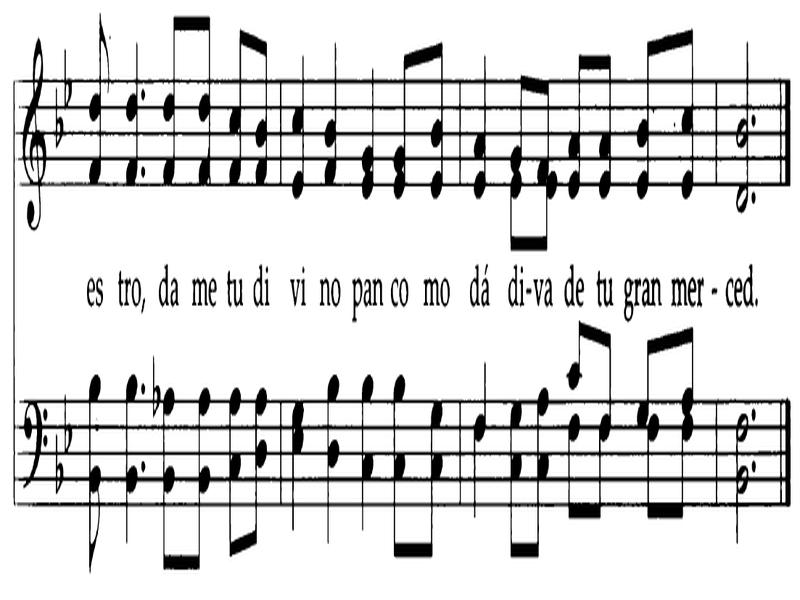B: (727, 32, 752, 221), (730, 405, 750, 543)
Bem: (58, 48, 75, 110), (51, 88, 65, 145), (63, 382, 74, 454), (52, 438, 66, 493)
C: (82, 9, 118, 194), (79, 367, 109, 575), (186, 382, 216, 577), (387, 365, 416, 563), (158, 9, 187, 190), (632, 31, 660, 199), (677, 19, 702, 205), (158, 384, 182, 576), (225, 22, 252, 190), (562, 50, 591, 202), (528, 381, 552, 564), (589, 52, 617, 203), (389, 48, 415, 205), (195, 10, 217, 193), (427, 38, 452, 199), (250, 376, 270, 552), (254, 35, 276, 191), (423, 394, 443, 564), (507, 57, 533, 167), (507, 395, 523, 564), (224, 381, 238, 559), (674, 323, 701, 415), (594, 412, 615, 525), (632, 333, 657, 426), (643, 414, 664, 524), (559, 317, 588, 393), (599, 330, 618, 444), (673, 418, 694, 520), (536, 61, 553, 184), (567, 411, 584, 530), (537, 170, 559, 254), (504, 172, 520, 251)
CF: (19, 395, 48, 495)
CS: (17, 28, 52, 238)
N: (467, 51, 493, 206), (285, 48, 310, 209), (321, 32, 346, 192), (357, 370, 377, 538), (122, 28, 142, 194), (327, 366, 344, 547), (463, 410, 491, 518), (288, 391, 307, 549), (357, 64, 378, 204), (121, 371, 137, 553), (473, 358, 489, 442)
P: (751, 189, 760, 214), (752, 110, 761, 129), (748, 461, 760, 474), (748, 409, 760, 420)
